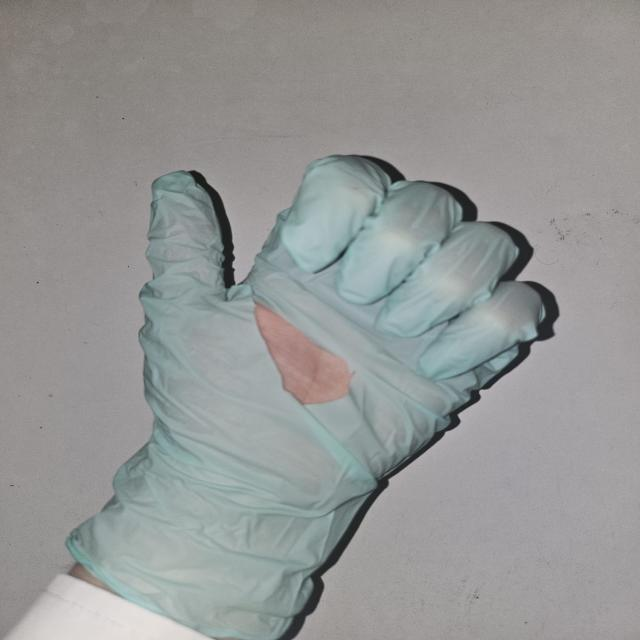gloves_damaged: (63, 151, 556, 640)
